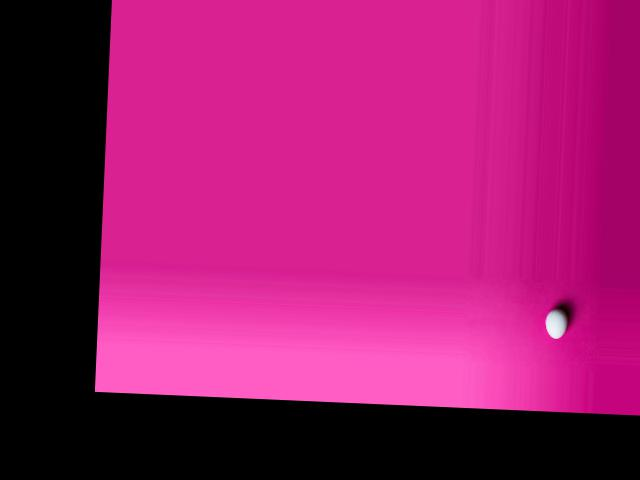egg: (544, 308, 567, 339)
